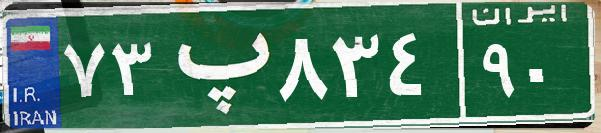0: (525, 38, 570, 115)
3: (330, 28, 385, 110), (110, 28, 158, 105)
4: (385, 28, 445, 110)
7: (57, 26, 110, 107)
8: (273, 28, 330, 110)
9: (475, 38, 525, 113)
پ: (158, 15, 273, 115)
